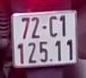1: (15, 40, 26, 67), (65, 36, 76, 61), (59, 12, 69, 39), (55, 39, 63, 63)
2: (26, 41, 39, 65), (31, 16, 40, 39)
5: (39, 39, 50, 65)
7: (20, 13, 32, 40)
C: (47, 14, 58, 37)
